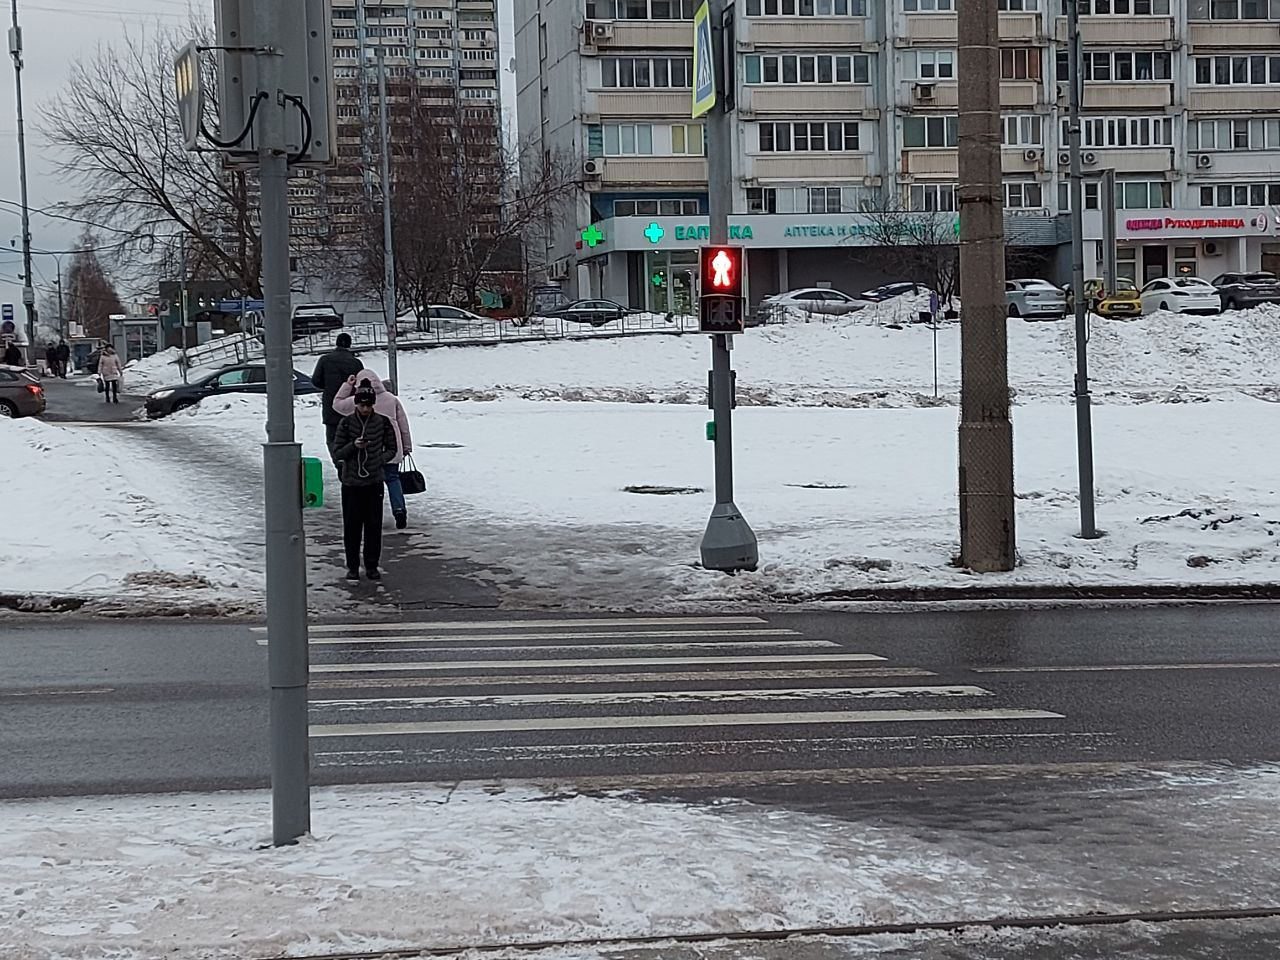sombie: (313, 369, 428, 605)
